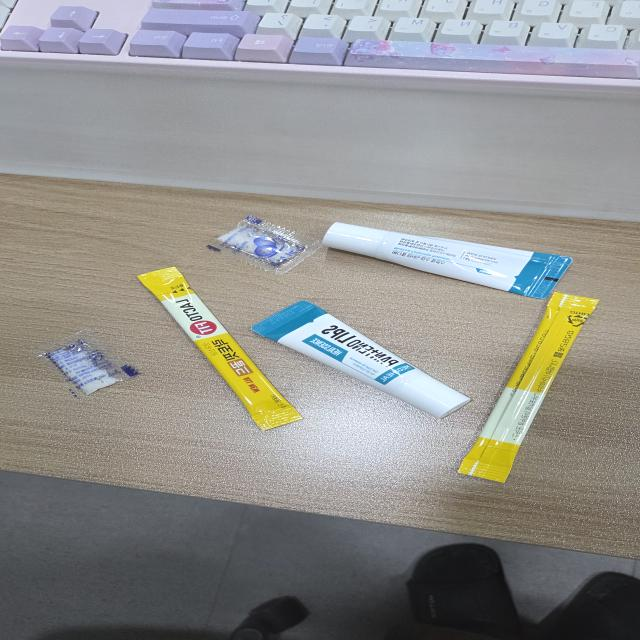lacto: (134, 266, 302, 434), (454, 290, 598, 482)
lib: (251, 299, 468, 419), (321, 220, 577, 299)
salt: (26, 328, 143, 403), (205, 216, 323, 276)
